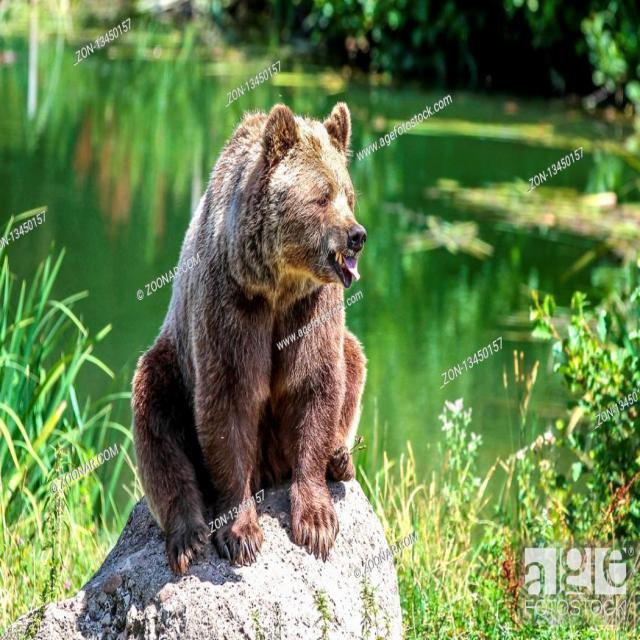Bear: (131, 103, 368, 579)
